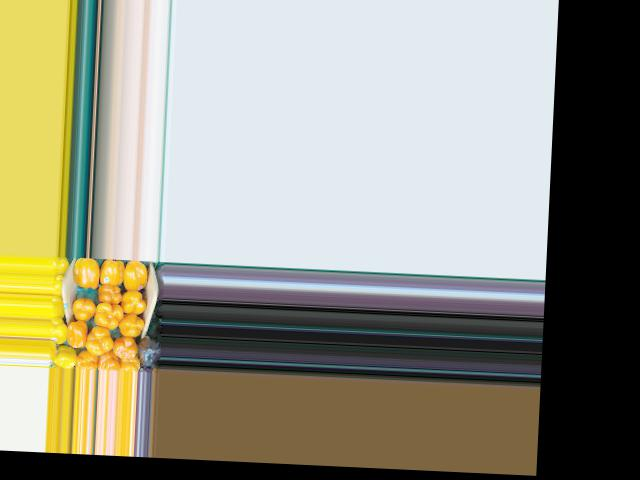bell_pepper: (51, 314, 67, 345)
